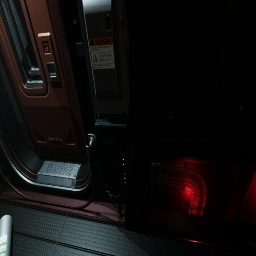0: (0, 215, 12, 256)
SafetySwitchPanel ,: (77, 0, 130, 116)
